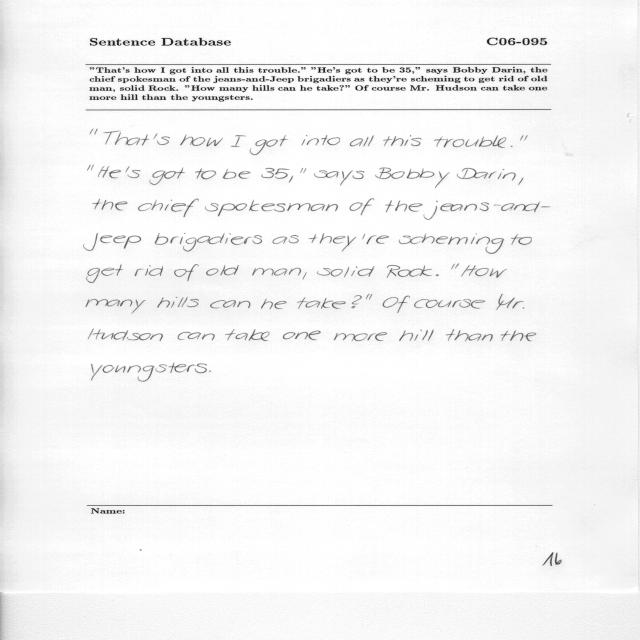word: (424, 200, 551, 220), (399, 233, 504, 254), (205, 200, 338, 216), (92, 364, 207, 382), (155, 233, 262, 252), (375, 168, 450, 188), (138, 199, 199, 217), (84, 233, 141, 251), (434, 135, 506, 148), (309, 233, 357, 252), (86, 299, 146, 314), (88, 329, 163, 341), (314, 170, 364, 186), (457, 168, 516, 181), (250, 135, 288, 155), (414, 299, 485, 309), (104, 131, 150, 146), (87, 265, 123, 283), (317, 267, 375, 278), (446, 329, 493, 342), (386, 265, 432, 278), (462, 265, 508, 278), (150, 168, 185, 185), (225, 329, 270, 341), (297, 298, 346, 309), (180, 135, 223, 147), (334, 332, 387, 341), (157, 297, 199, 308), (497, 294, 525, 310), (386, 200, 423, 212), (301, 135, 340, 146), (174, 264, 199, 281), (383, 135, 421, 146), (93, 199, 127, 211), (350, 199, 375, 215), (252, 268, 301, 276), (399, 330, 434, 341), (283, 331, 321, 341), (501, 331, 536, 341), (178, 332, 215, 341), (206, 265, 239, 275), (210, 300, 251, 308), (261, 168, 290, 179), (135, 265, 163, 276), (352, 294, 373, 308), (223, 169, 251, 179), (98, 166, 121, 178), (362, 234, 389, 244), (350, 136, 374, 147), (261, 299, 287, 309), (272, 235, 299, 244), (195, 169, 216, 180), (511, 234, 532, 245), (397, 296, 410, 313), (153, 133, 170, 145), (231, 135, 246, 147), (126, 166, 141, 178), (383, 297, 398, 308), (90, 129, 98, 135), (520, 135, 528, 141), (451, 264, 459, 270), (519, 178, 524, 186), (88, 165, 94, 171), (303, 272, 307, 280), (300, 168, 306, 173), (289, 176, 293, 183), (436, 274, 439, 276), (209, 370, 211, 372), (511, 146, 513, 147)
